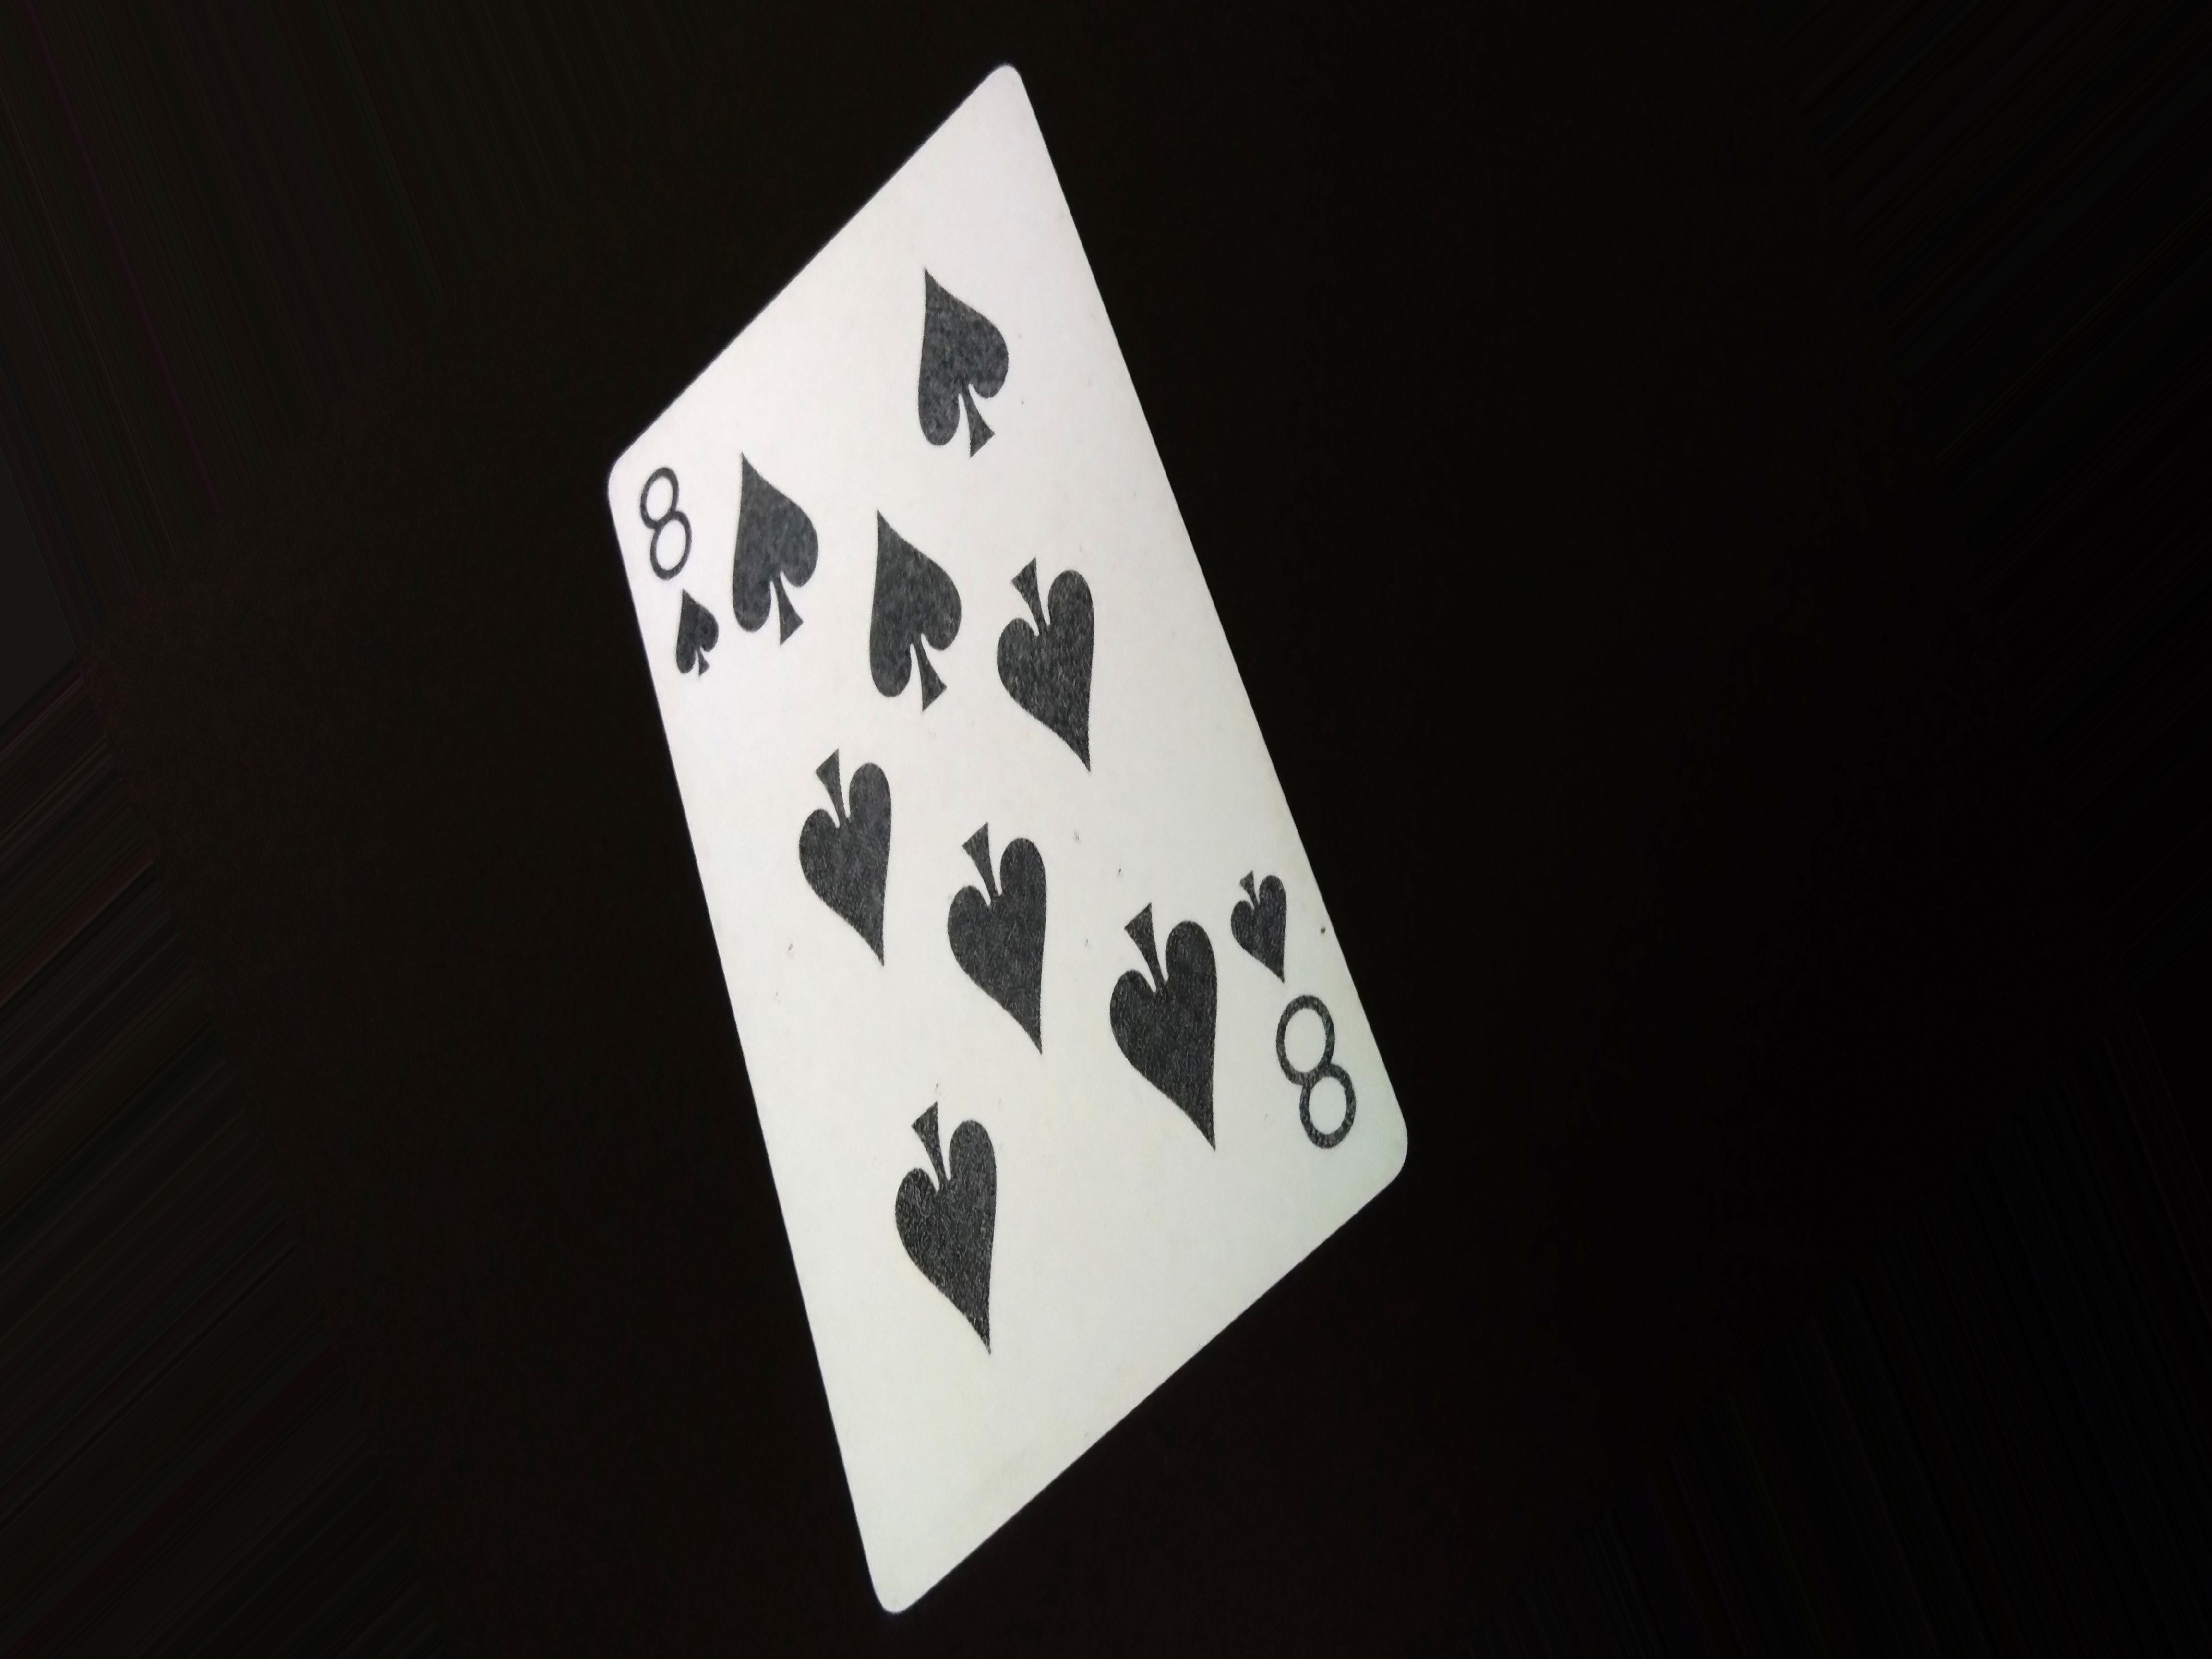8S: (1226, 835, 1357, 1180)
